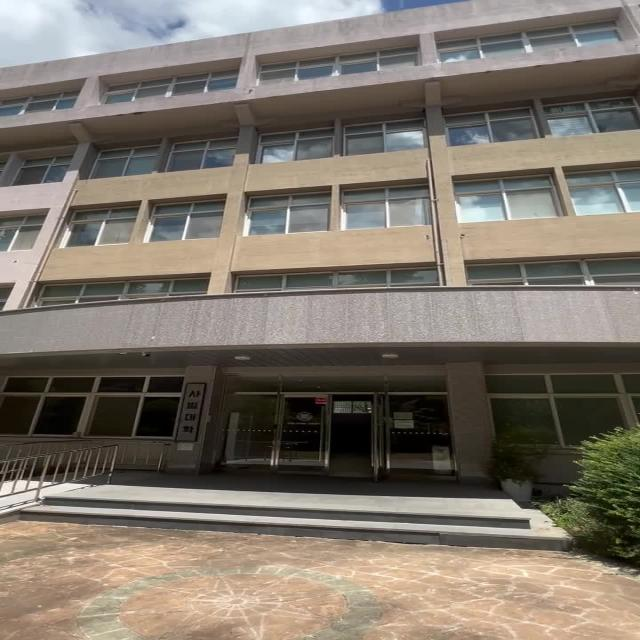building: (2, 37, 640, 408)
